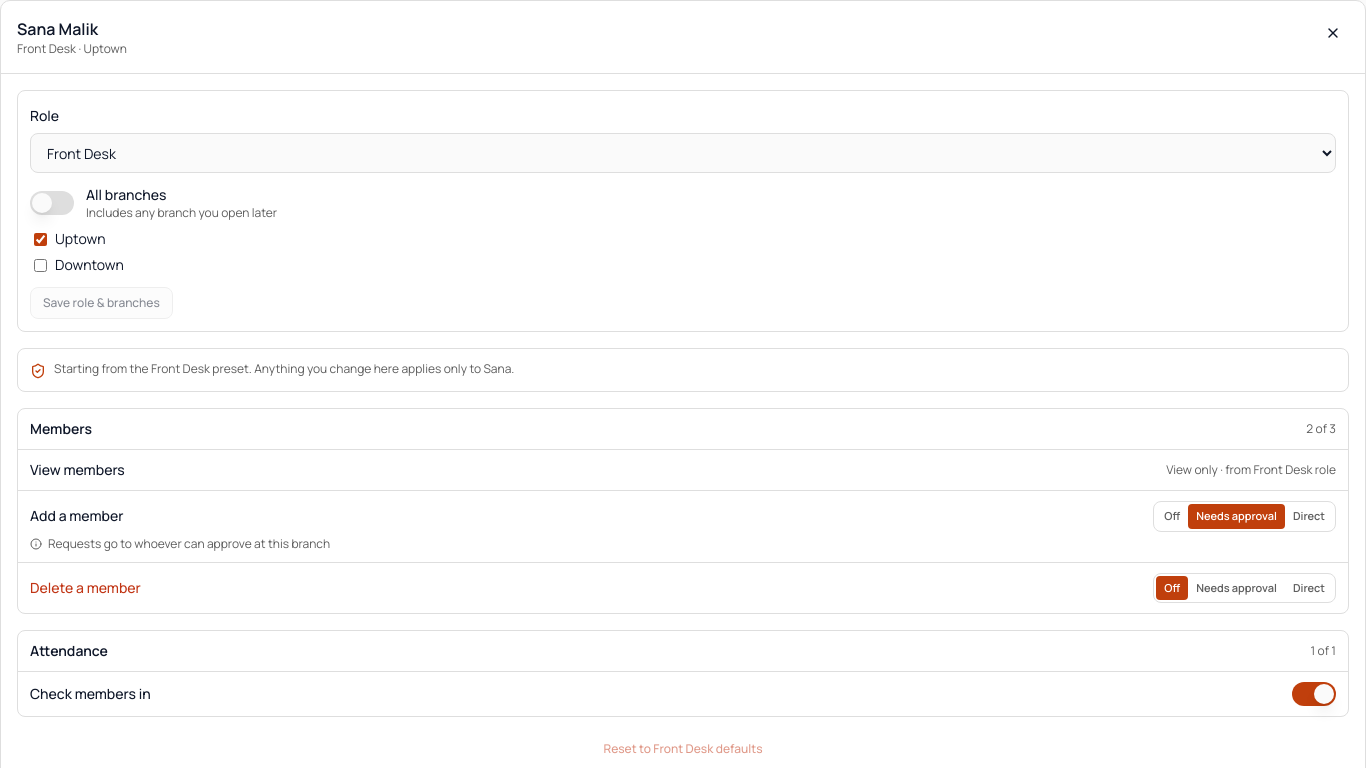
MemberAccessPanel — role and branches (RBAC-05, RBAC-08) › on 409 grants_changed for a role change, reloads and says so
Select "Branch Admin" in the dropdown labelled "Role": (683, 153) [30,133,1336,173]
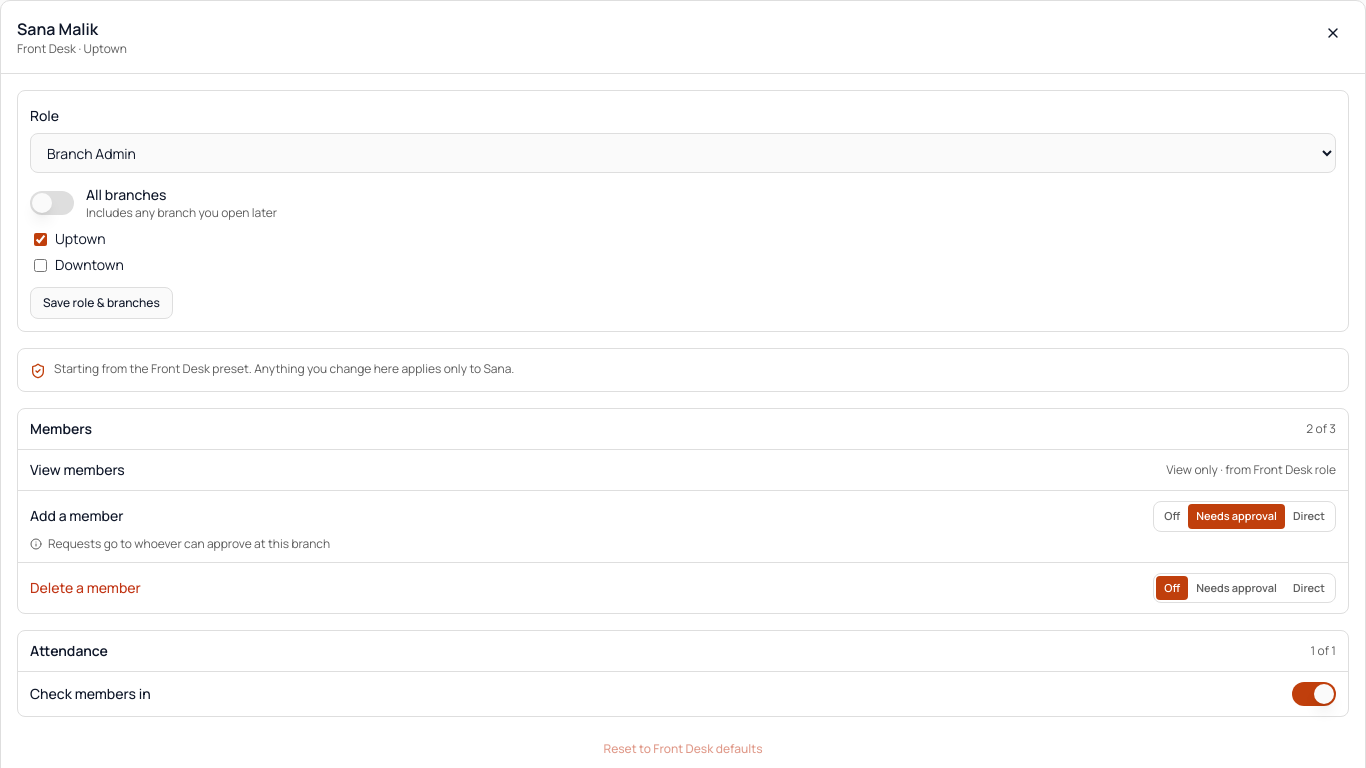
Click the button "Save role & branches": click(101, 303) [30,287,173,319]
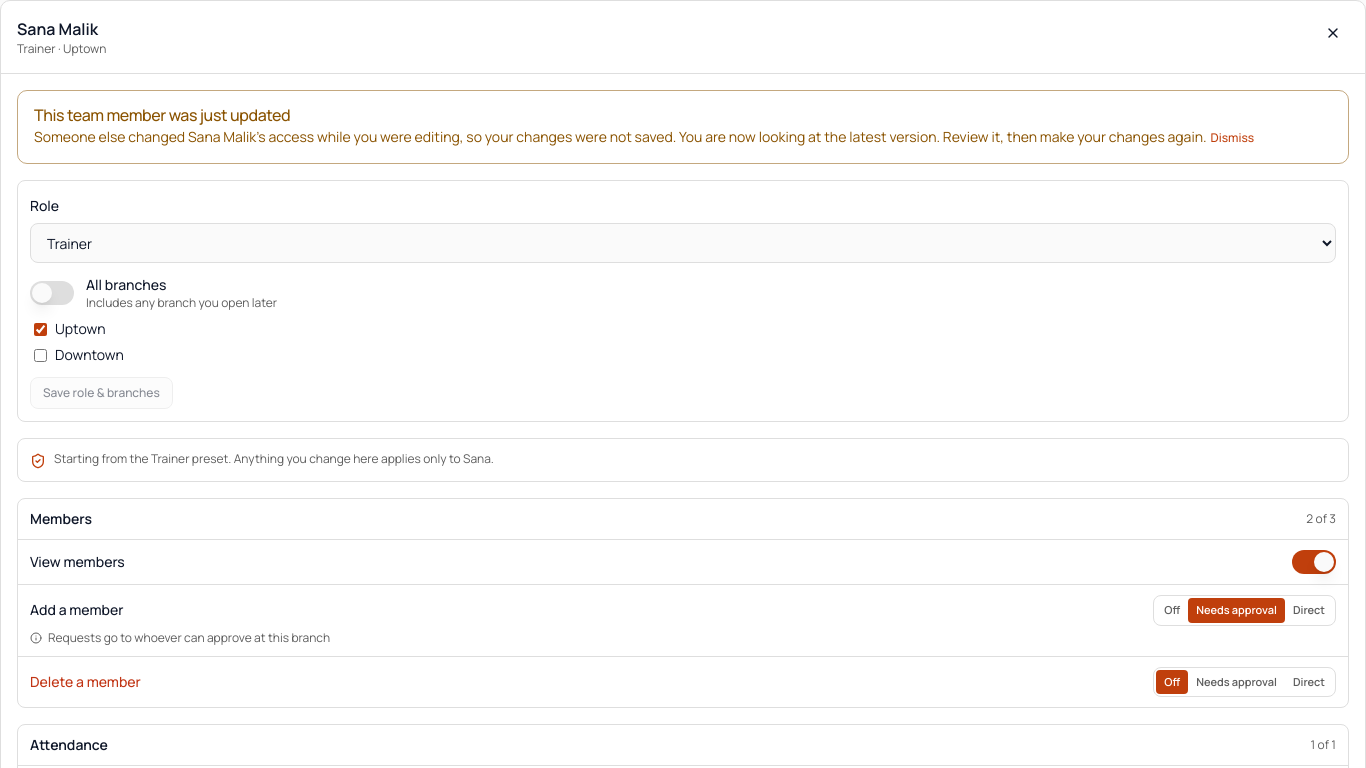
Check: the message with test id "grants-changed-notice" is shown, box [17,90,1349,164]
